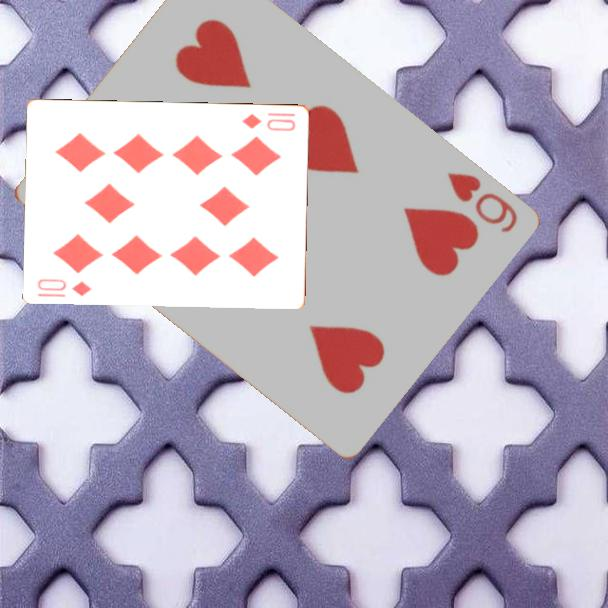d10: (34, 275, 95, 300), (239, 110, 298, 134)
h06: (443, 169, 520, 236)
